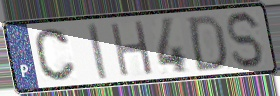4: (156, 15, 190, 76)
C: (33, 27, 78, 83)
D: (187, 13, 229, 73)
H: (108, 18, 156, 79)
I: (85, 20, 110, 82)
S: (225, 9, 266, 71)
